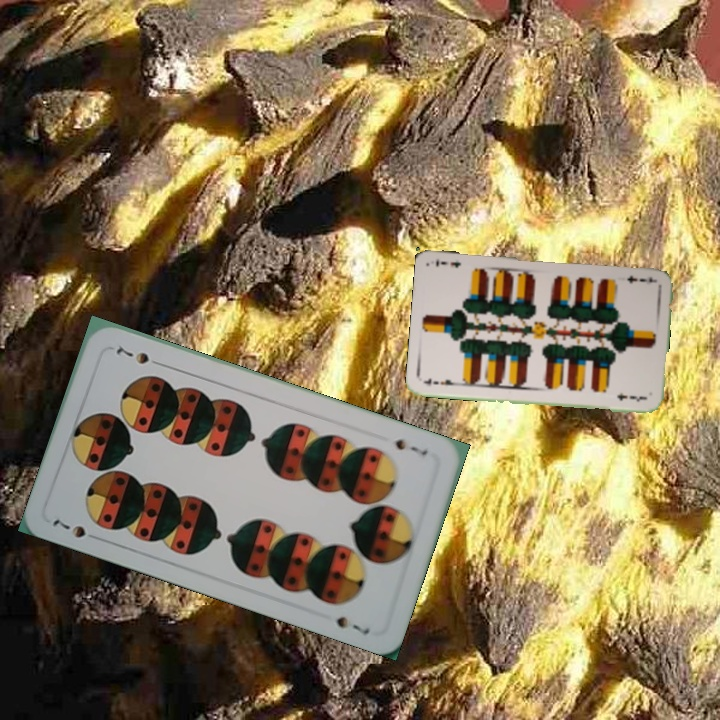E7: (420, 374, 461, 388), (623, 271, 658, 286)
S7: (48, 515, 104, 544), (391, 435, 431, 458)
